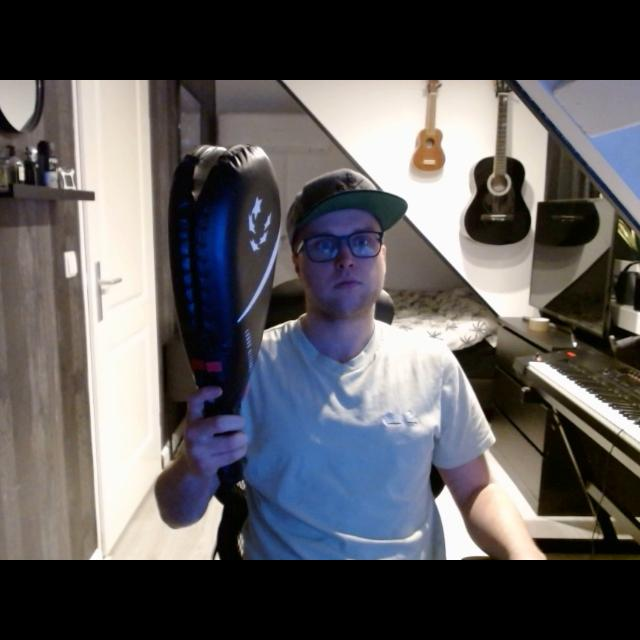paddle: (165, 138, 284, 427)
